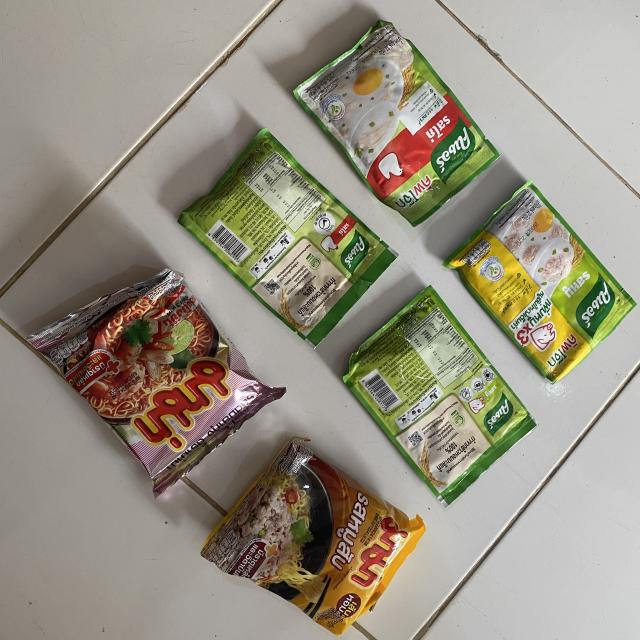plastik: (28, 269, 285, 496), (179, 129, 396, 346), (201, 436, 425, 635), (344, 286, 536, 506), (294, 21, 499, 225), (444, 181, 636, 381)
